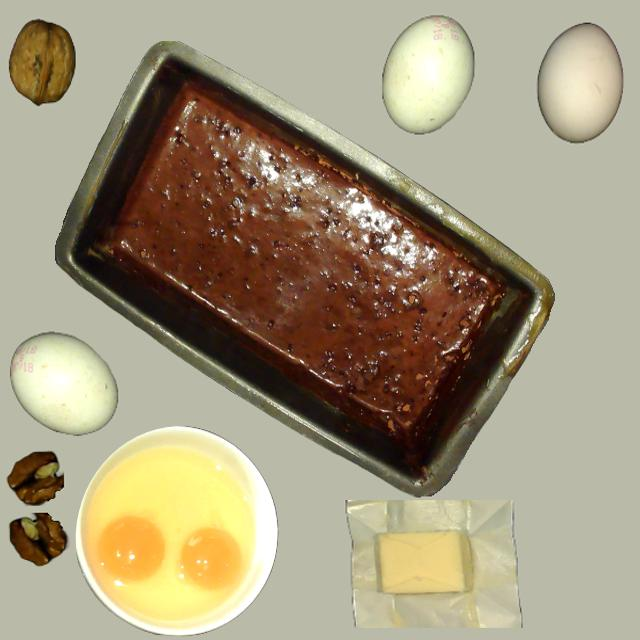Egg: (98, 516, 164, 582), (180, 527, 240, 589)
Walnut: (9, 19, 74, 105)
